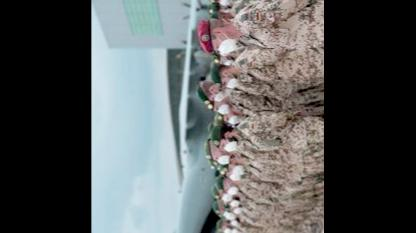A400M: (91, 0, 222, 231)
